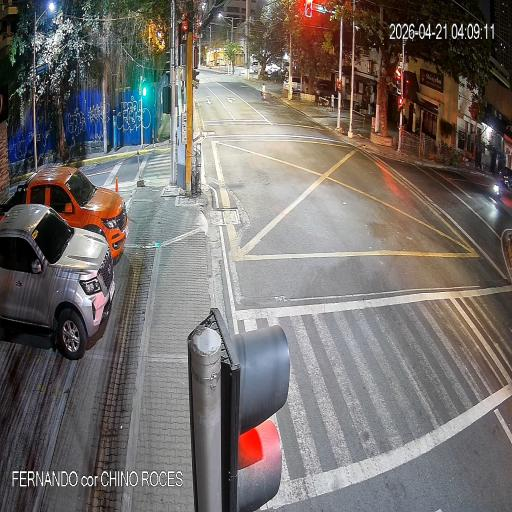Car: (2, 203, 120, 365), (22, 164, 128, 266), (286, 75, 308, 102), (250, 56, 269, 79)
